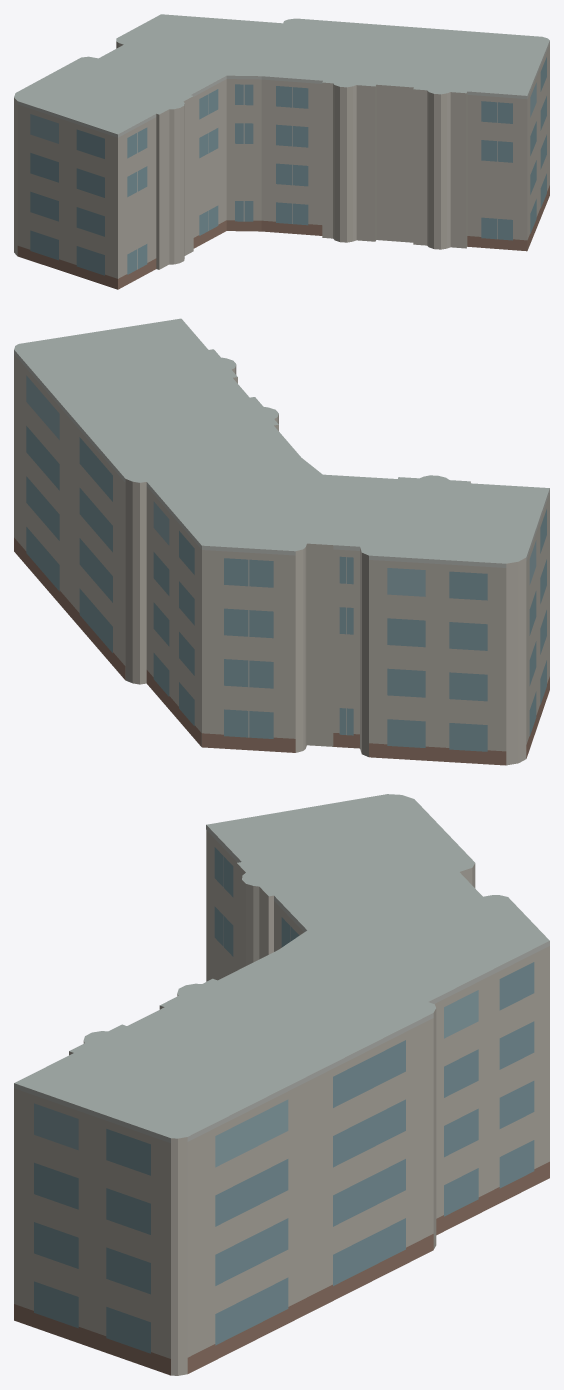
The model's file is survey-upis-32911672.glb.
The picture shows the model from 3 angles, top to bottom: view 1: azimuth 30°, elevation 25°; view 2: azimuth 150°, elevation 25°; view 3: azimuth 270°, elevation 25°; orthographic projection. The views are drawn at different scales.
Visible parts, largest first — view 1: survey-upis-32911672.tmp; view 2: survey-upis-32911672.tmp; view 3: survey-upis-32911672.tmp.
Part boxes in pixels (x1,y1,x2,y2): survey-upis-32911672.tmp: (14,14,549,289); survey-upis-32911672.tmp: (14,318,549,765); survey-upis-32911672.tmp: (14,794,549,1375).
Size of the model in its own units: 35.49 by 11.4 by 23.33.
